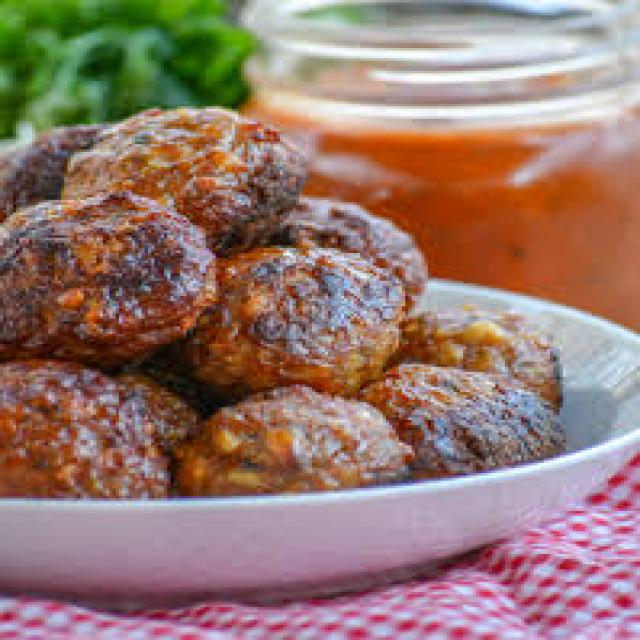Meatball: (51, 96, 333, 243), (0, 186, 220, 364), (175, 376, 424, 522), (193, 235, 427, 389), (370, 346, 591, 502), (0, 359, 193, 508)
